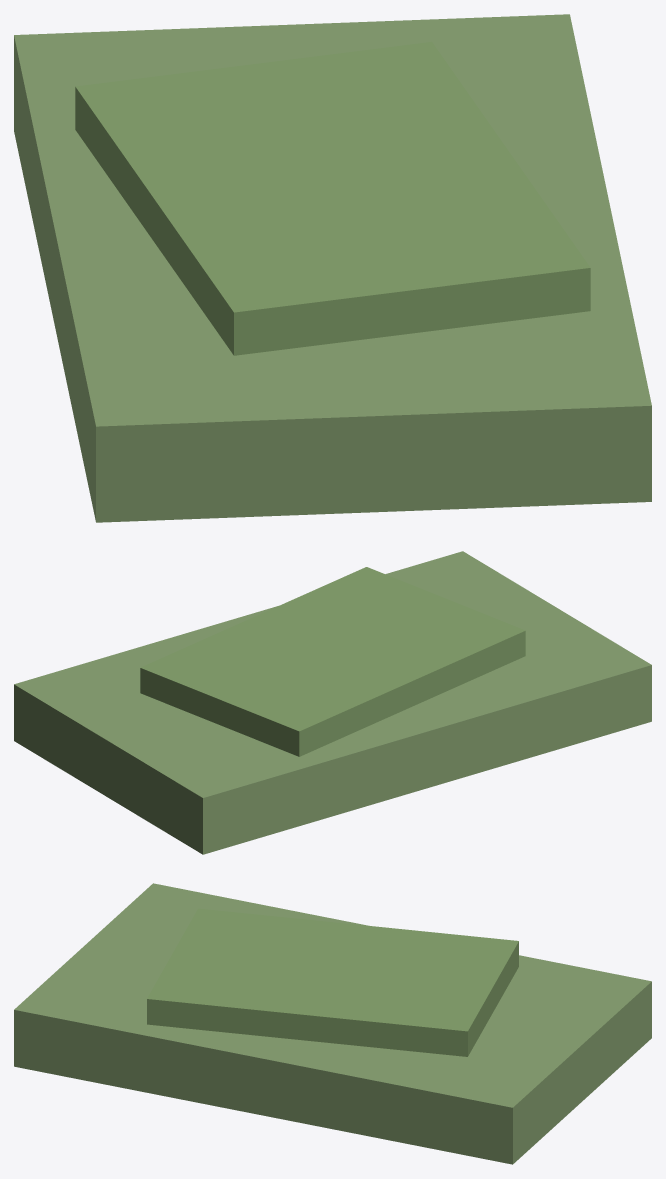
File: structure.glb
3 views of the same model, one above another, from view 1: azimuth 30°, elevation 25°; view 2: azimuth 150°, elevation 25°; view 3: azimuth 270°, elevation 25° (orthographic). The views are drawn at different scales.
Parts seen in each view (by area): view 1: Box1, Box2; view 2: Box1, Box2; view 3: Box1, Box2.
Boxes of the visible parts, x1=… form: Box1: x1=14, y1=14, x2=651, y2=522; Box2: x1=75, y1=41, x2=590, y2=355; Box1: x1=14, y1=551, x2=651, y2=854; Box2: x1=140, y1=567, x2=525, y2=756; Box1: x1=14, y1=883, x2=651, y2=1164; Box2: x1=147, y1=908, x2=518, y2=1056.
Size of the model in its own units: 133 by 22.72 by 159.
